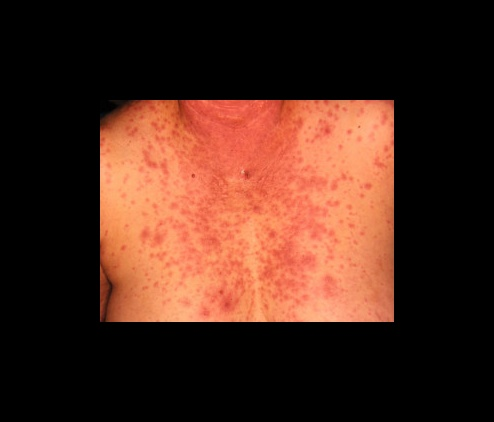SJS-TEN: (90, 99, 398, 324)
